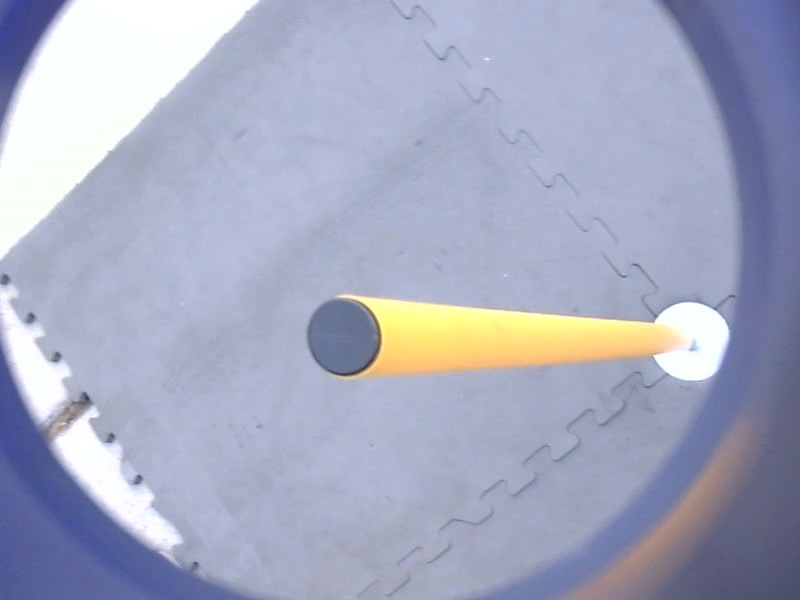tip: (300, 293, 389, 385)
